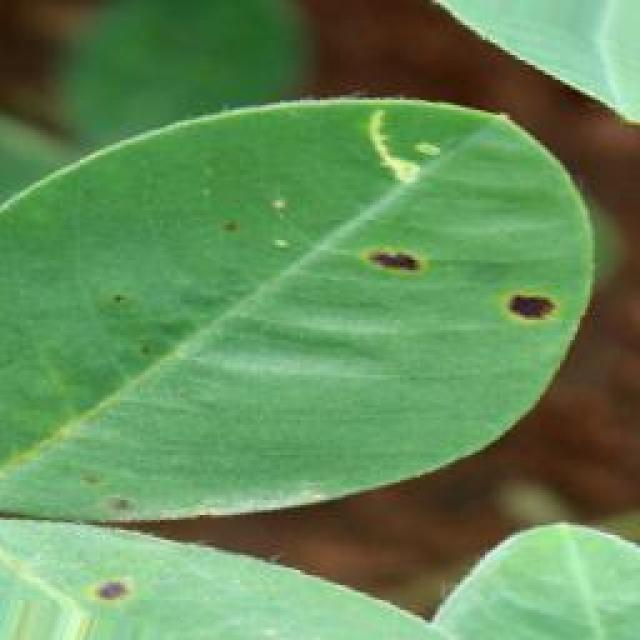Early_leaf_spot: (43, 524, 161, 639), (337, 213, 468, 310), (464, 252, 576, 358), (192, 138, 298, 249), (82, 261, 163, 347)
